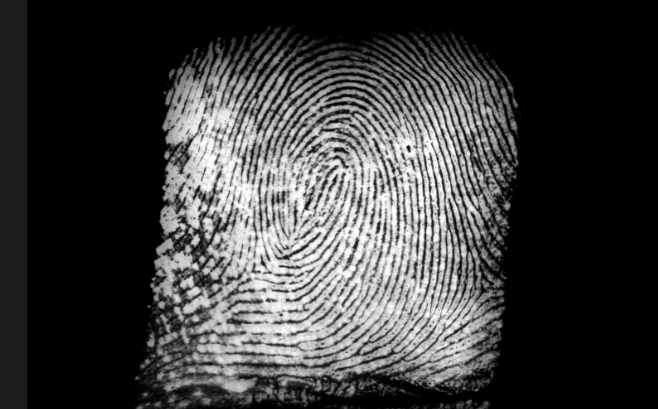nucelo: (315, 157, 341, 217)
verticilo: (467, 269, 508, 301), (238, 258, 265, 280)
